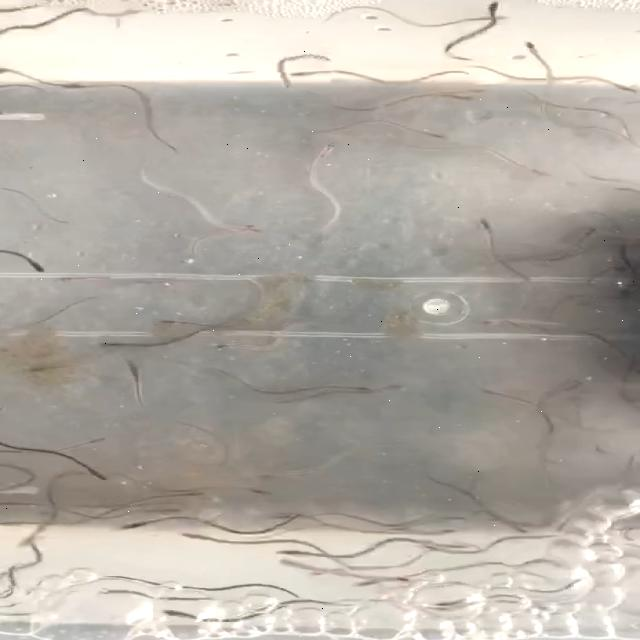active_glass_eel: (286, 37, 336, 63), (108, 10, 162, 34), (148, 305, 192, 329), (378, 376, 420, 399), (300, 138, 346, 156), (120, 360, 156, 382), (169, 527, 207, 545), (531, 158, 555, 186), (270, 544, 308, 560), (582, 227, 612, 247), (469, 215, 502, 233), (286, 68, 320, 85), (272, 558, 308, 574), (162, 604, 194, 622), (236, 217, 266, 236), (20, 261, 60, 275), (556, 373, 584, 393), (501, 517, 531, 535), (245, 483, 278, 499), (86, 586, 118, 602), (345, 372, 369, 392), (481, 2, 514, 16), (179, 488, 211, 502), (95, 337, 131, 349), (472, 386, 500, 399), (216, 340, 242, 354), (518, 37, 542, 51), (428, 128, 446, 144), (117, 520, 143, 530), (165, 505, 187, 515), (64, 216, 74, 228)
